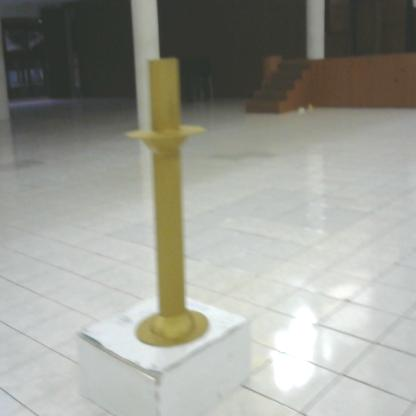pole: (122, 48, 218, 359)
